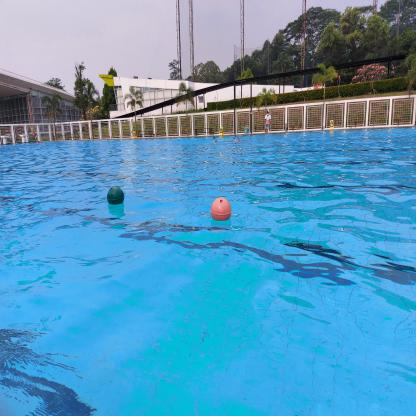green_buoy: (106, 185, 126, 206)
red_buoy: (210, 196, 233, 221)
